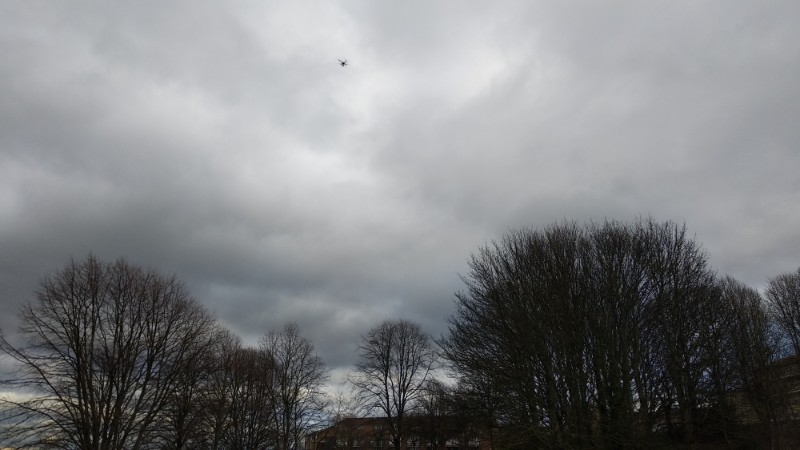drone: (335, 58, 352, 68)
